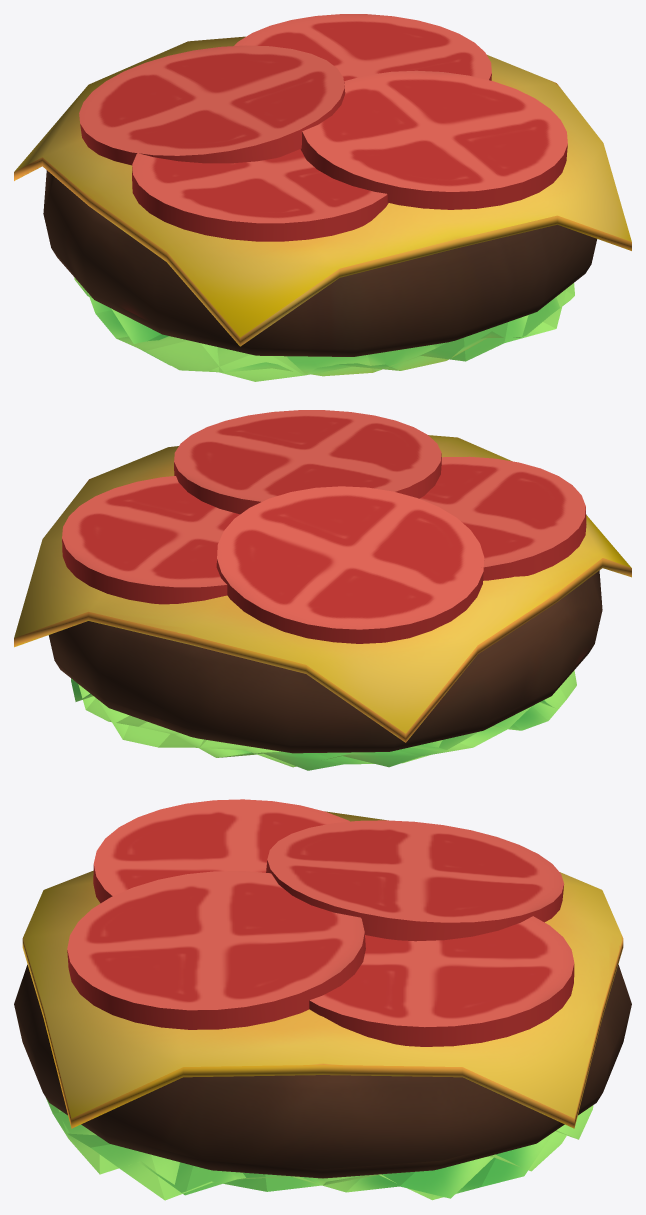
File: beef.glb
The picture shows the model from 3 angles, top to bottom: view 1: azimuth 30°, elevation 25°; view 2: azimuth 150°, elevation 25°; view 3: azimuth 270°, elevation 25°; orthographic projection. The views are drawn at different scales.
Visible parts, largest first — view 1: tomatoes, cheese, patty, lettuce; view 2: tomatoes, patty, cheese, lettuce; view 3: tomatoes, cheese, patty, lettuce.
Boxes of the visible parts, bbox=[...] form: tomatoes: bbox=[79, 14, 567, 241]; cheese: bbox=[14, 36, 631, 346]; patty: bbox=[43, 170, 597, 356]; lettuce: bbox=[74, 277, 574, 381]; tomatoes: bbox=[62, 410, 586, 643]; patty: bbox=[48, 570, 602, 753]; cheese: bbox=[14, 435, 631, 742]; lettuce: bbox=[71, 670, 576, 770]; tomatoes: bbox=[67, 799, 574, 1046]; cheese: bbox=[22, 811, 623, 1128]; patty: bbox=[14, 964, 631, 1178]; lettuce: bbox=[46, 1098, 593, 1200].
Bounding box in the file's own units: 1.86 × 0.8243 × 1.86.
Materials: 1 (1 with a texture image).
